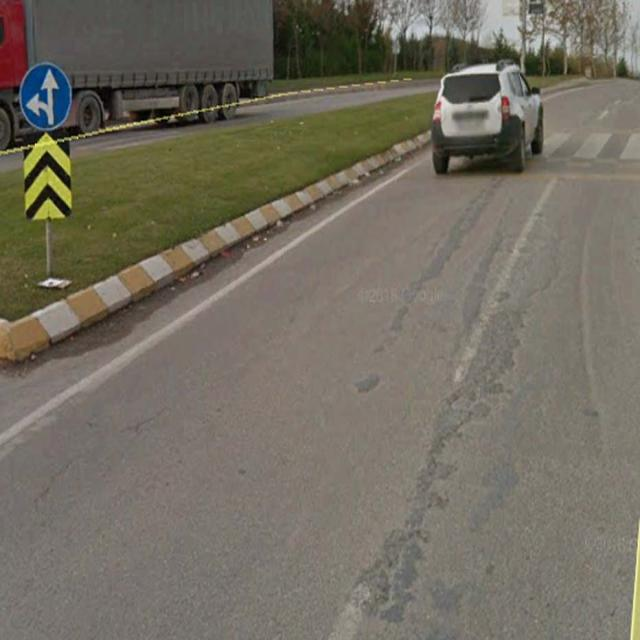ilerisol: (18, 62, 71, 131)
